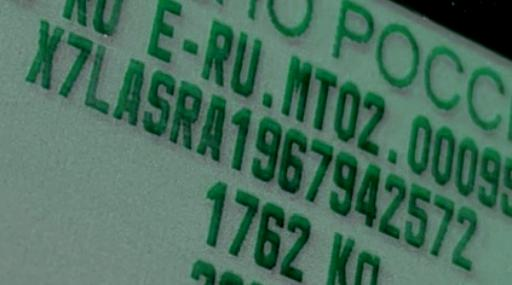letter: (24, 20, 62, 86), (82, 44, 114, 114), (142, 71, 178, 132), (114, 58, 146, 124), (170, 81, 202, 146), (58, 33, 92, 94), (196, 95, 226, 158), (250, 118, 280, 179), (378, 173, 406, 237), (278, 131, 306, 192), (304, 140, 332, 201), (452, 205, 478, 270), (330, 150, 356, 214), (428, 192, 454, 256), (226, 107, 252, 168), (356, 162, 380, 228), (406, 183, 430, 247)
